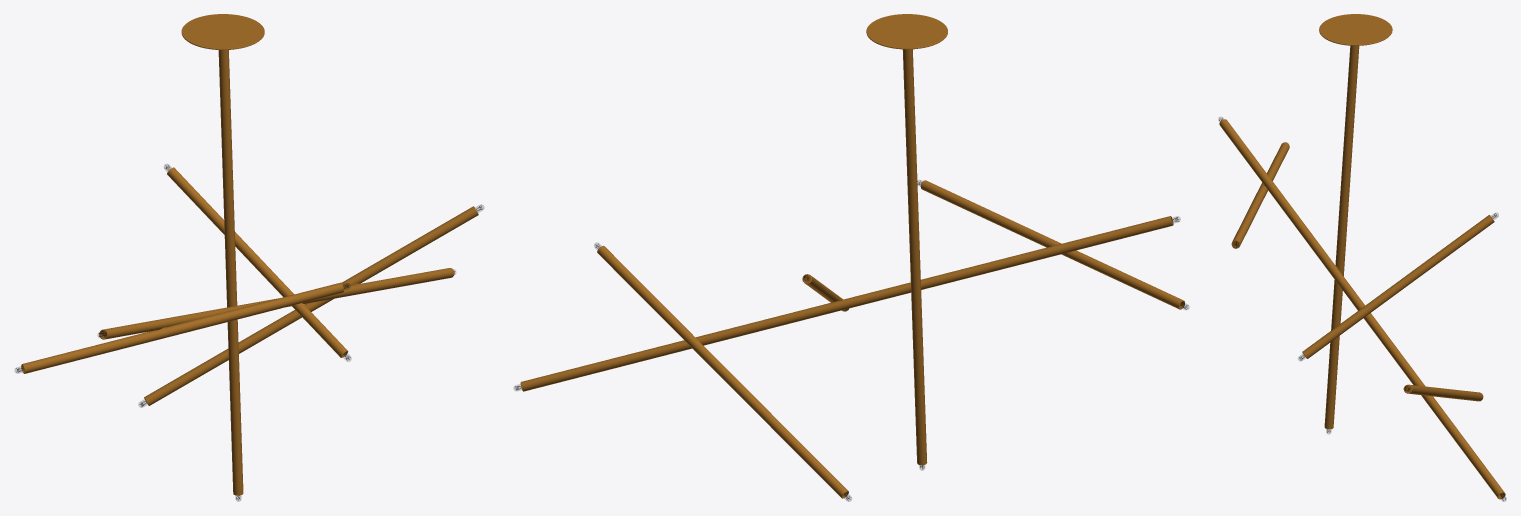
The model's file is Billy_Cotton_Pick_Up_5_Stick_mat(1).fbx.
3 renders of one model, left to right at view 1: azimuth 30°, elevation 25°; view 2: azimuth 150°, elevation 25°; view 3: azimuth 270°, elevation 25°, orthographic. The views are drawn at different scales.
Visible parts, largest first — view 1: Billy_Cotton_Pick_Up_5_Stick_mat1; view 2: Billy_Cotton_Pick_Up_5_Stick_mat1; view 3: Billy_Cotton_Pick_Up_5_Stick_mat1.
Boxes of the visible parts, x1,y1,x2,y2 form: Billy_Cotton_Pick_Up_5_Stick_mat1: (15, 14, 483, 501); Billy_Cotton_Pick_Up_5_Stick_mat1: (514, 14, 1188, 501); Billy_Cotton_Pick_Up_5_Stick_mat1: (1218, 14, 1506, 501).
Size of the model in its own units: 117 by 58.81 by 91.
